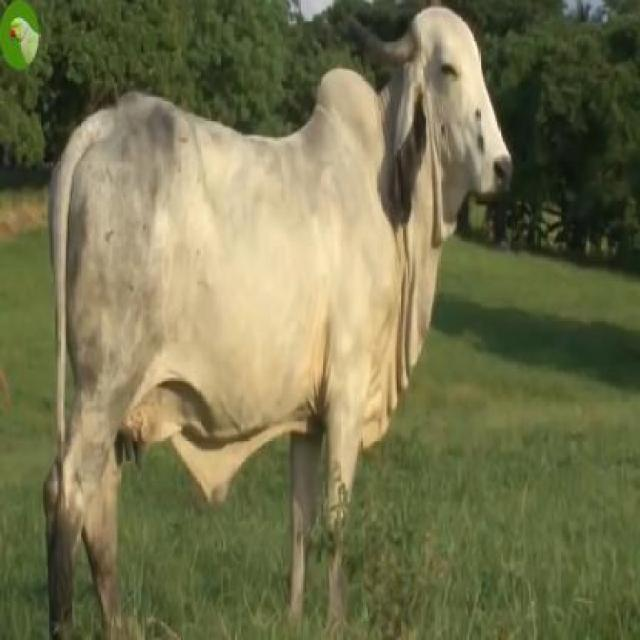Cow: (46, 0, 512, 638)
